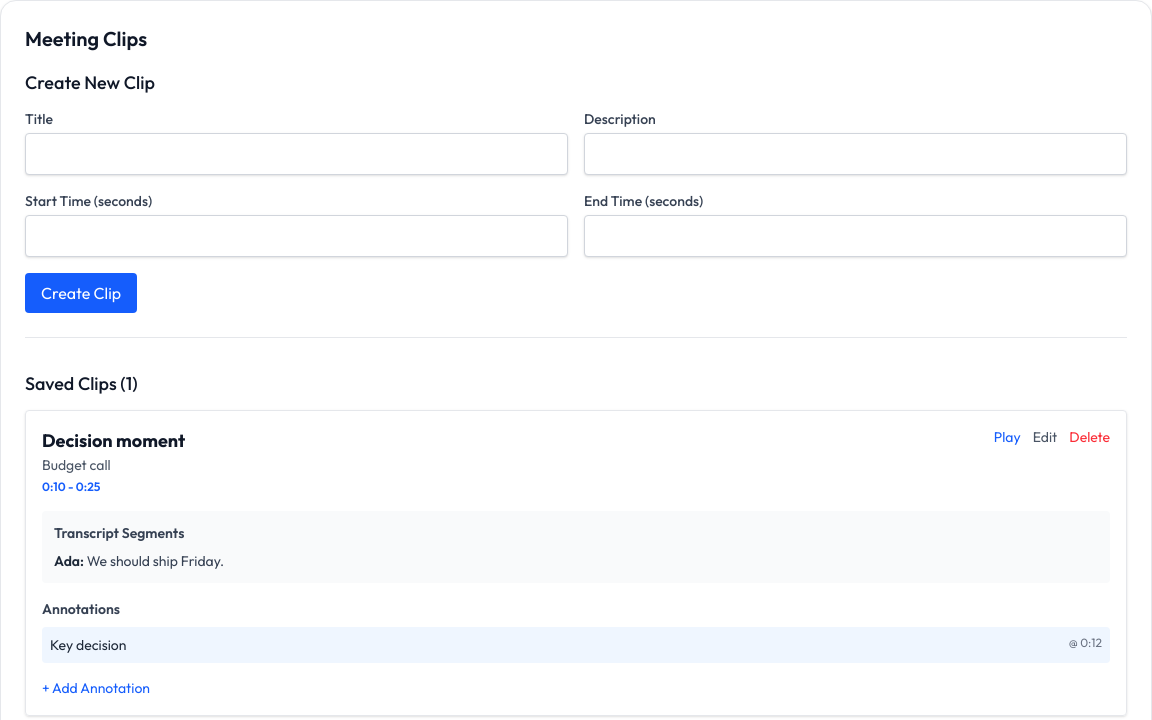
Test case: ClipManager (#1987) › deletes a clip after confirmation
Expected: the heading "Decision moment" is shown, [42,427,185,455]
What coordinates should you click on to do the following:
click the button "Delete"
I would click on:
 (1090, 437)
Its box is [1069,427,1110,447].
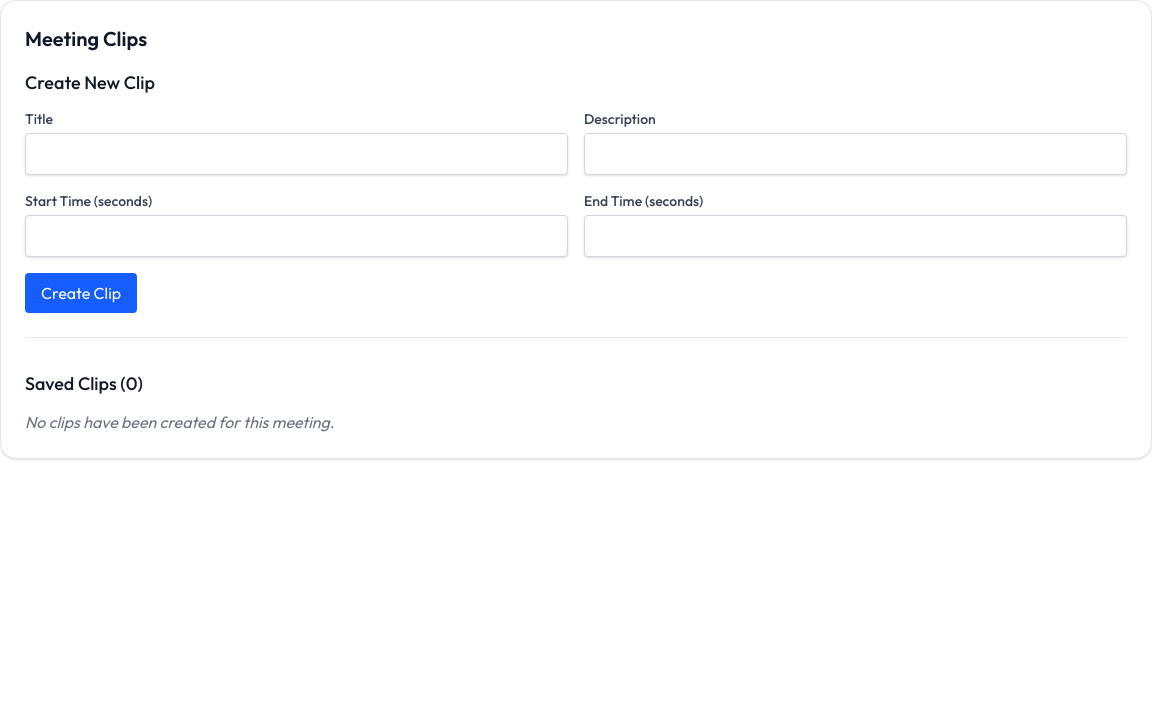
Expected: the heading "Decision moment" is gone
